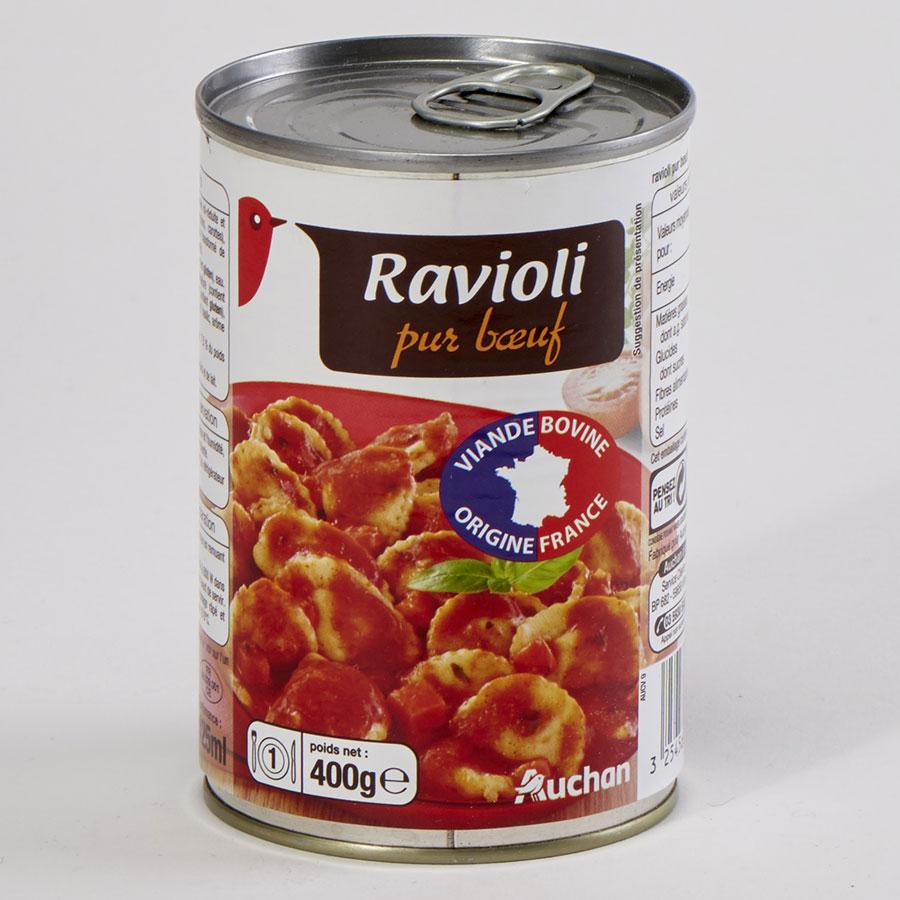metal: (196, 35, 696, 862)
